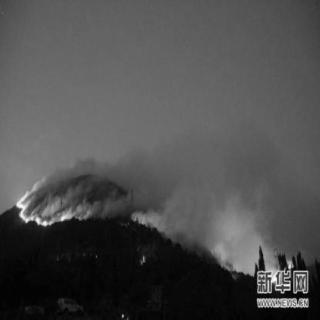Fire: (133, 195, 296, 288), (17, 163, 76, 231)
Smoke: (64, 125, 298, 247)
